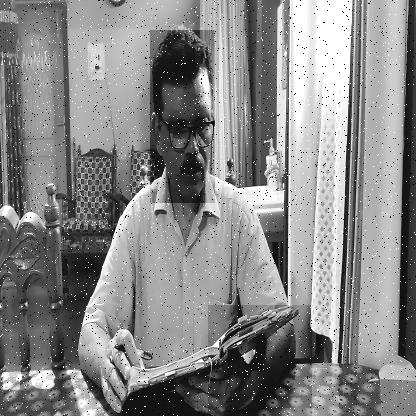Normal: (209, 305, 312, 416), (150, 30, 215, 203)
